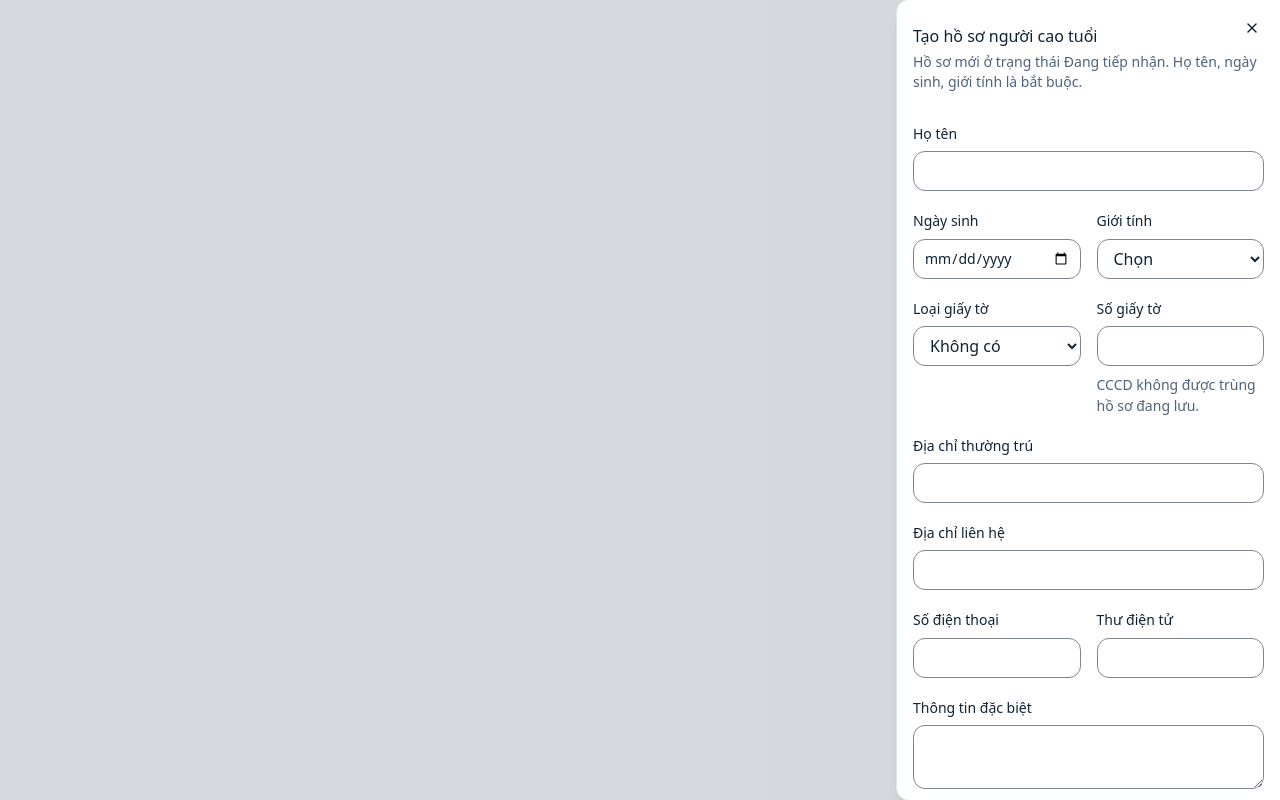
Scenario: CreateResident › CCCD đang dùng: báo ngay ở ô số giấy tờ kèm mã hồ sơ đang mang CCCD
Type "Nguyễn Văn An" into the field labelled "Họ tên" at {"x": 1088, "y": 171}, box [913,151,1264,191]
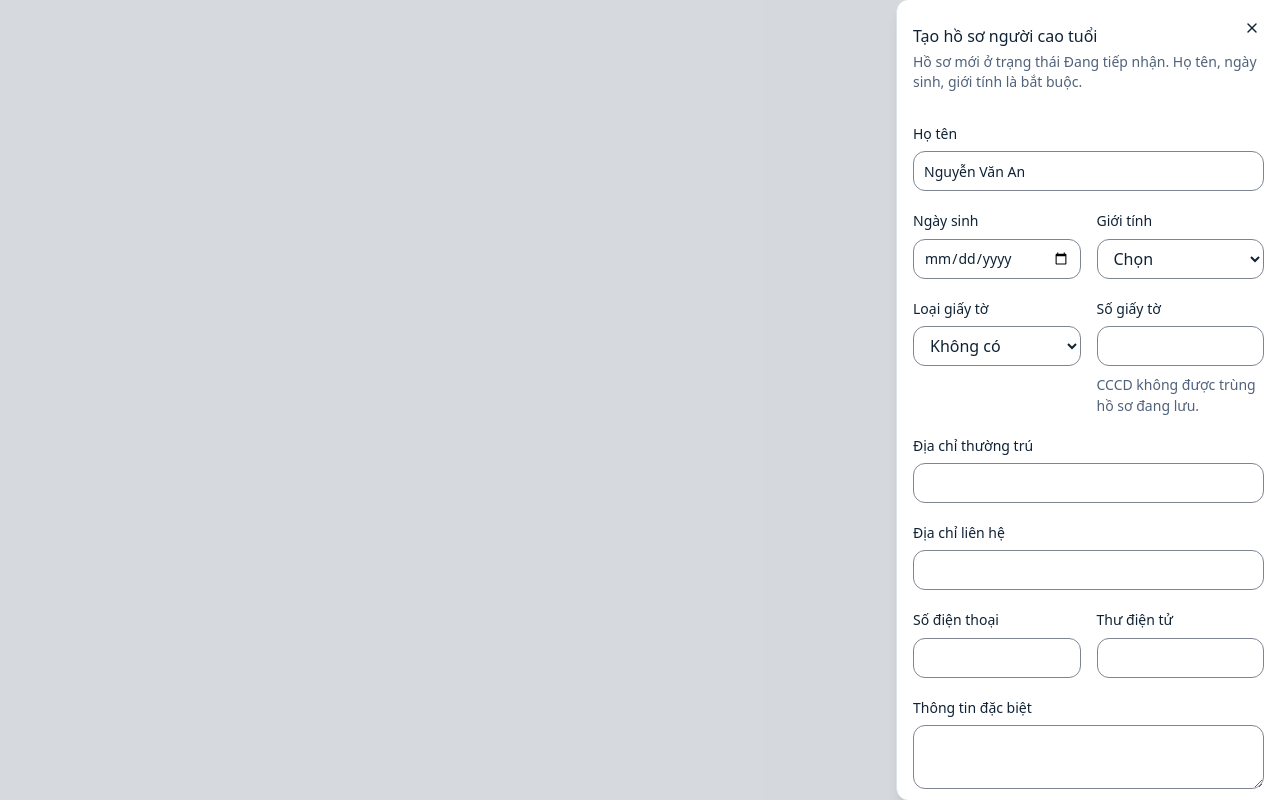
Type "1948-03-14" into the date field labelled "Ngày sinh" at {"x": 997, "y": 258}, box [913,238,1080,278]
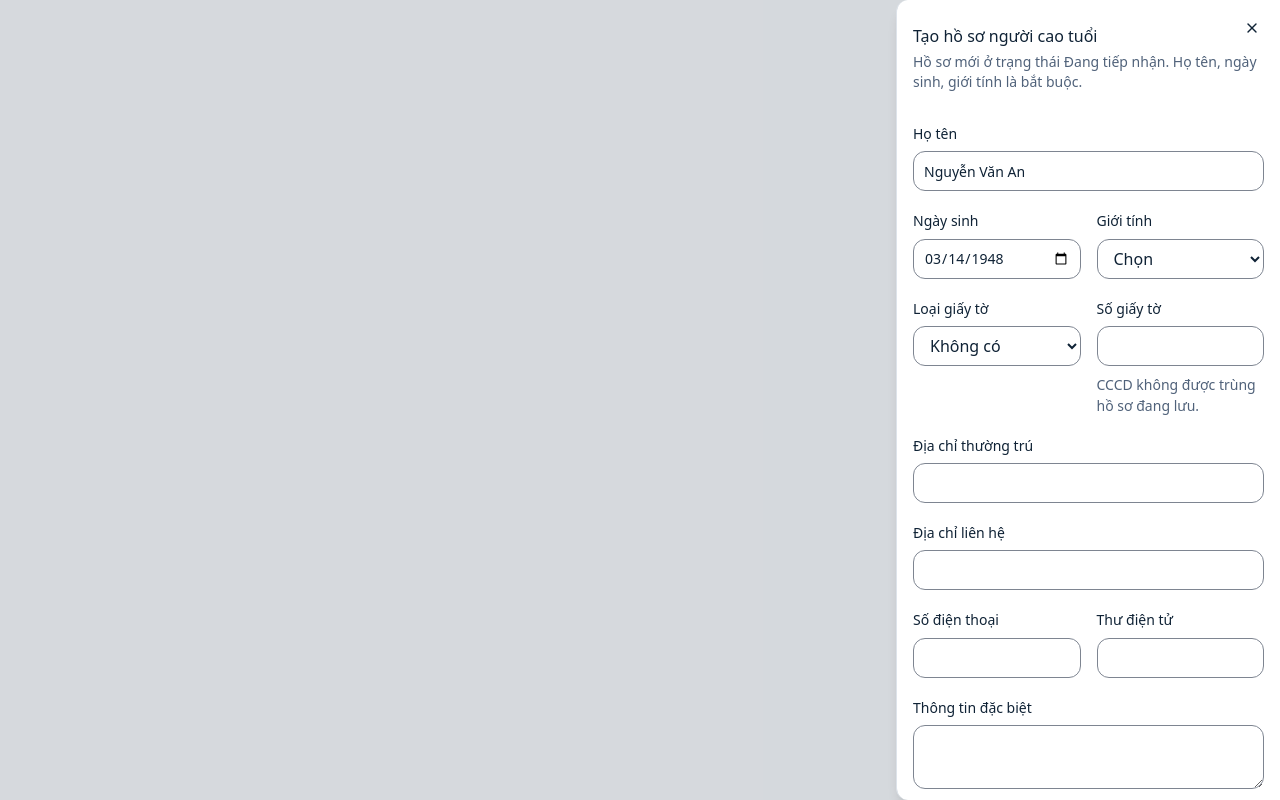
Select "Nam" in the dropdown labelled "Giới tính" at {"x": 1180, "y": 258}, box [1096,238,1264,278]
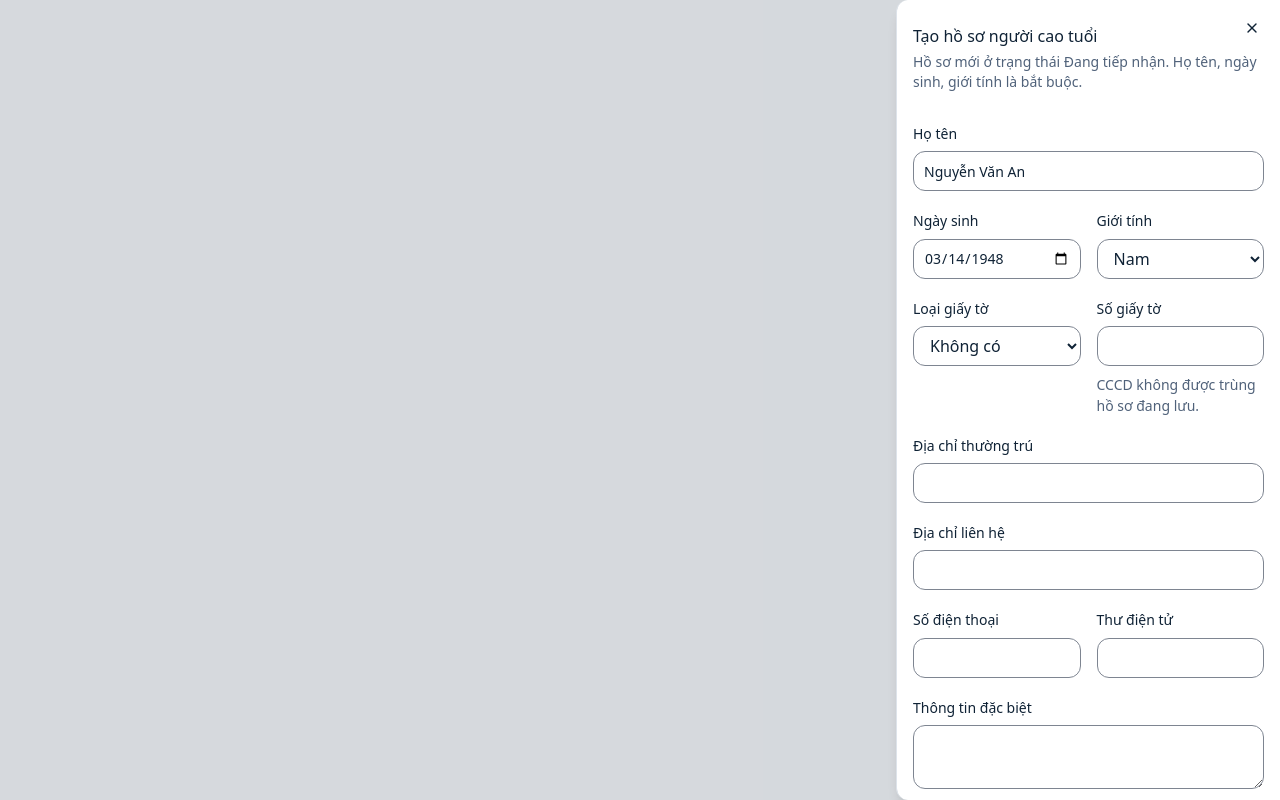
Select "CCCD" in the dropdown labelled "Loại giấy tờ" at {"x": 997, "y": 346}, box [913,326,1080,366]
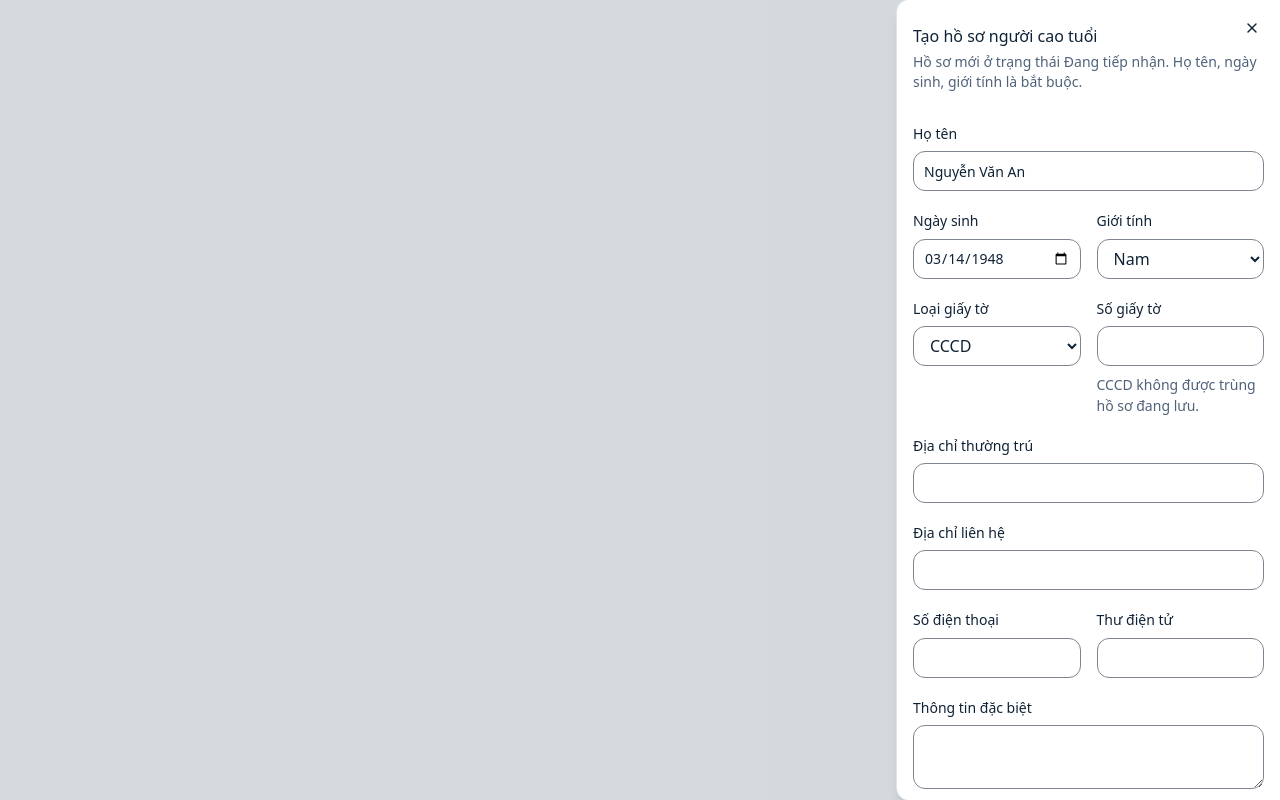
Type "012345678901" into the field labelled "Số giấy tờ" at {"x": 1180, "y": 346}, box [1096,326,1264,366]
(page scrolled)
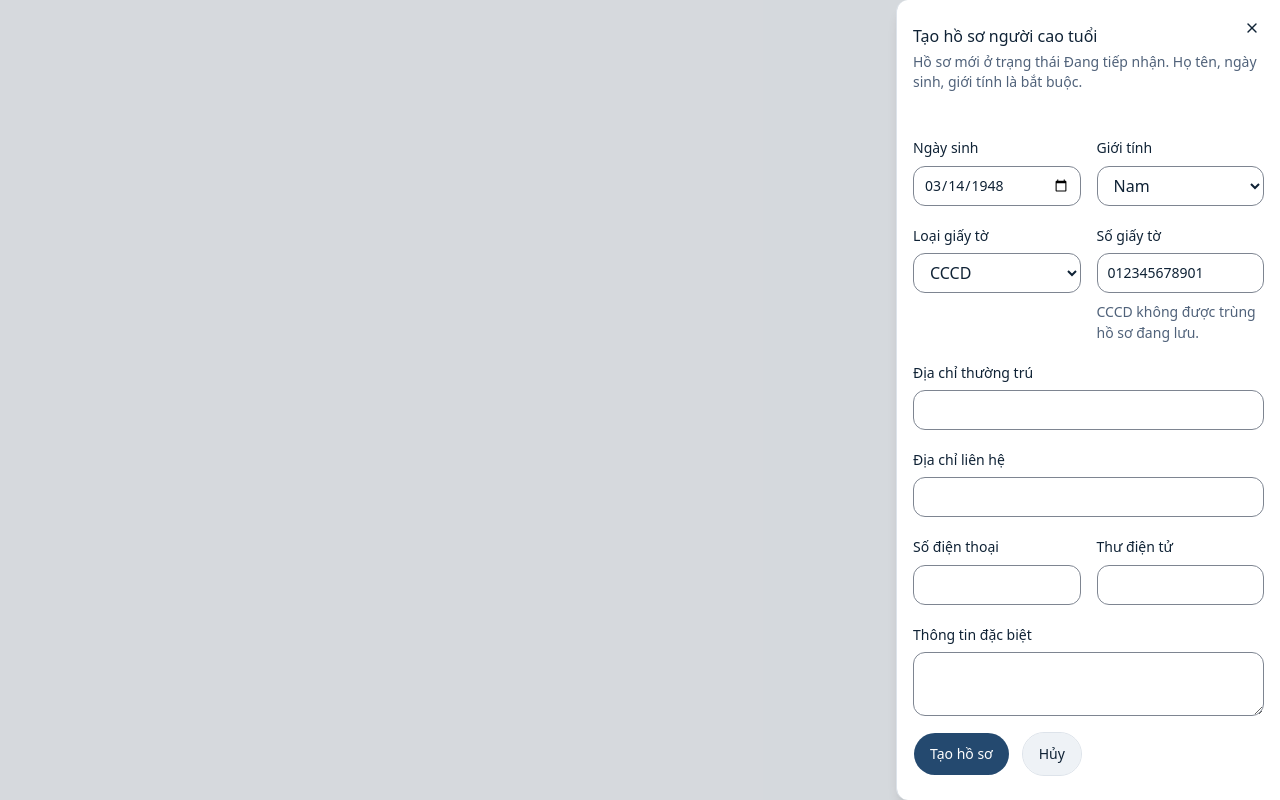
Click the button "Tạo hồ sơ" at {"x": 961, "y": 754}, box [913,732,1010,776]
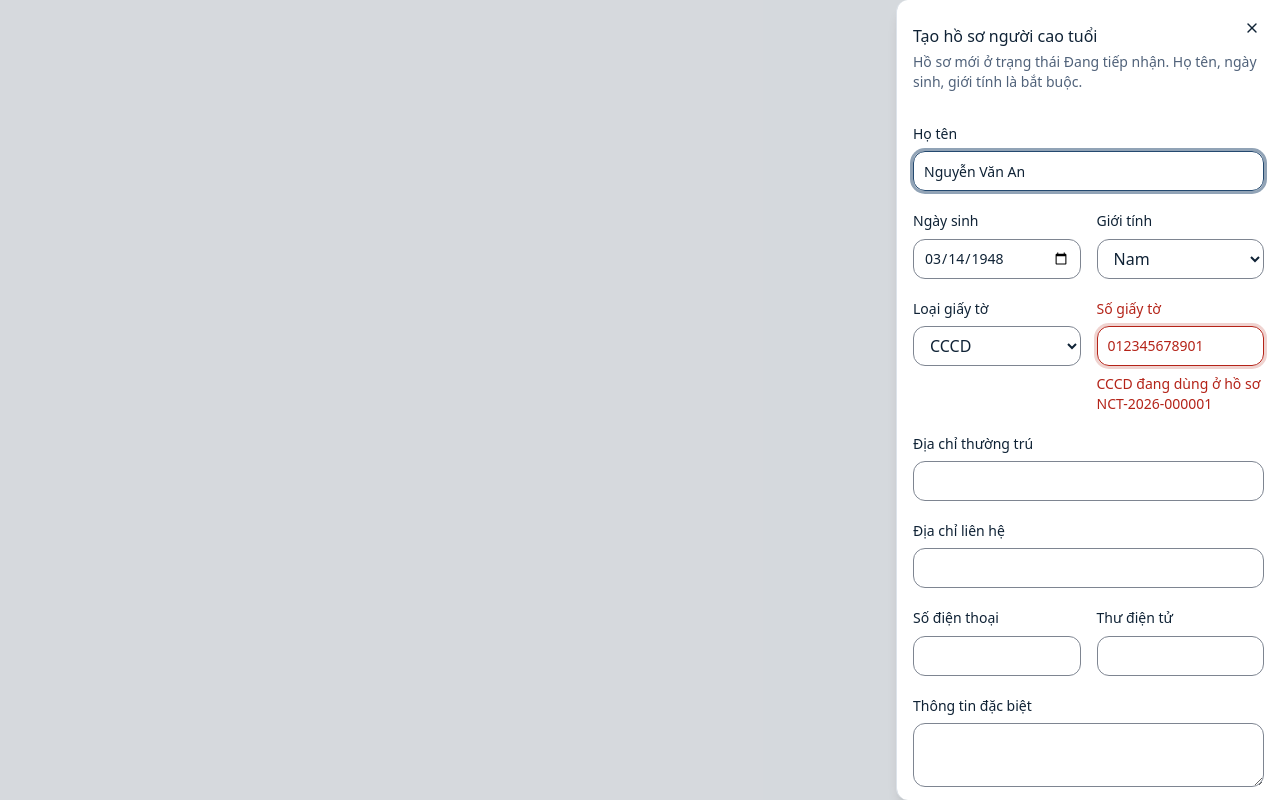
Expected: the text "CCCD đang dùng ở hồ sơ NCT-2026-000001" is shown, [1096,374,1264,414]
